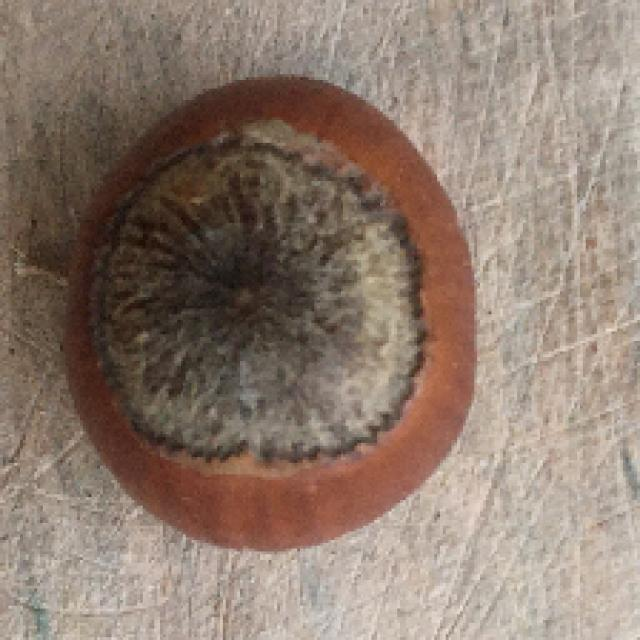qualityHazelnut: (64, 75, 477, 552)
